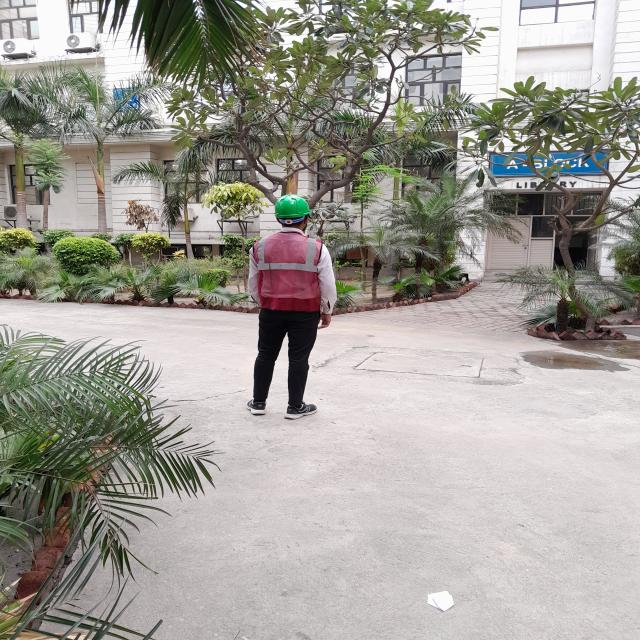safe: (247, 194, 339, 421)
